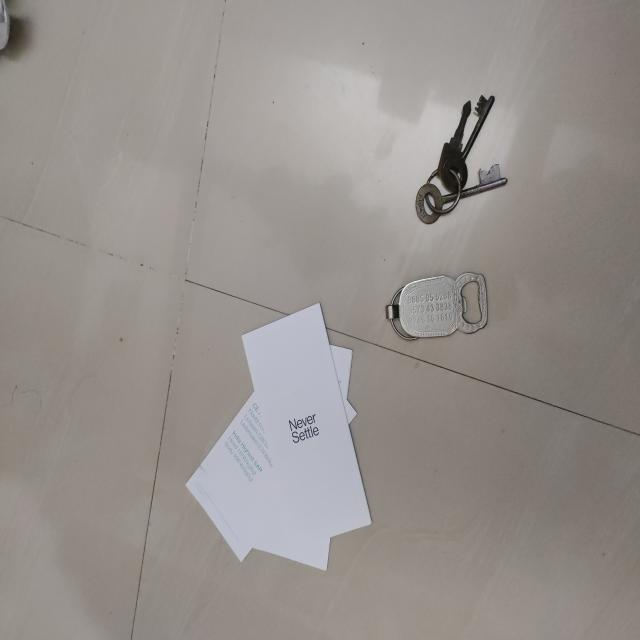dry: (186, 304, 371, 574), (415, 94, 509, 223), (384, 273, 492, 341)
